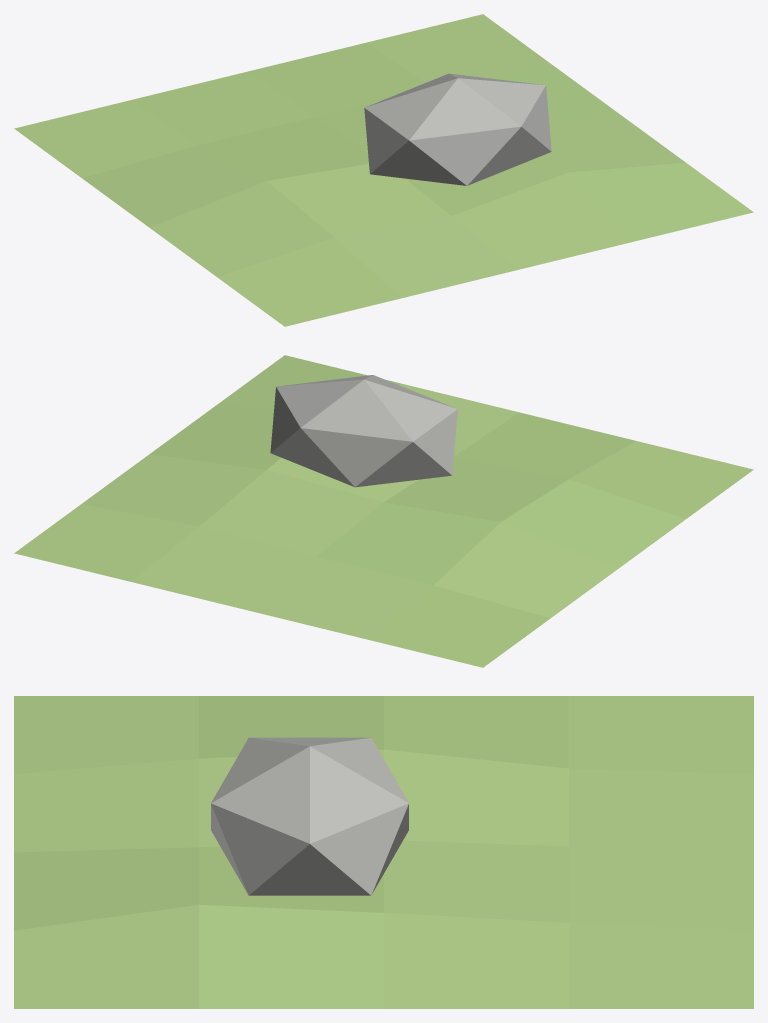
The model's file is Tile_39_Grass_Rocky.glb.
The picture shows the model from 3 angles, top to bottom: view 1: azimuth 30°, elevation 25°; view 2: azimuth 150°, elevation 25°; view 3: azimuth 270°, elevation 25°; orthographic projection. The views are drawn at different scales.
Parts seen in each view (by area): view 1: Tile_Grass_Rocky, Tile_Grass_Rocky_Rock; view 2: Tile_Grass_Rocky, Tile_Grass_Rocky_Rock; view 3: Tile_Grass_Rocky, Tile_Grass_Rocky_Rock.
Boxes of the visible parts, x1,y1,x2,y2 form: Tile_Grass_Rocky: (14, 14, 753, 326); Tile_Grass_Rocky_Rock: (364, 73, 551, 185); Tile_Grass_Rocky: (14, 355, 753, 667); Tile_Grass_Rocky_Rock: (270, 375, 457, 487); Tile_Grass_Rocky: (14, 696, 753, 1008); Tile_Grass_Rocky_Rock: (211, 737, 408, 895).
Size of the model in its own units: 0.2 by 0.042 by 0.2.
